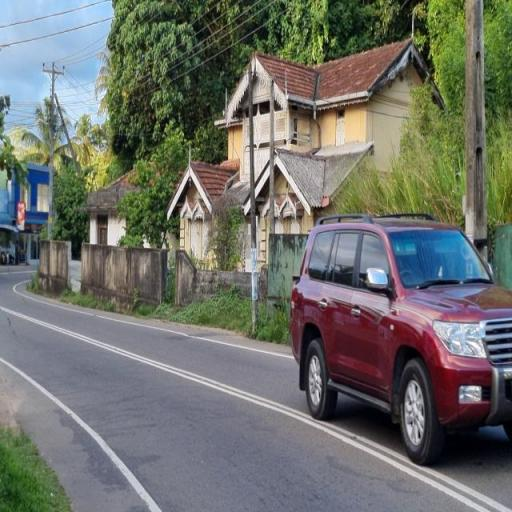double_white_line: (296, 345, 510, 511), (1, 354, 165, 510)
